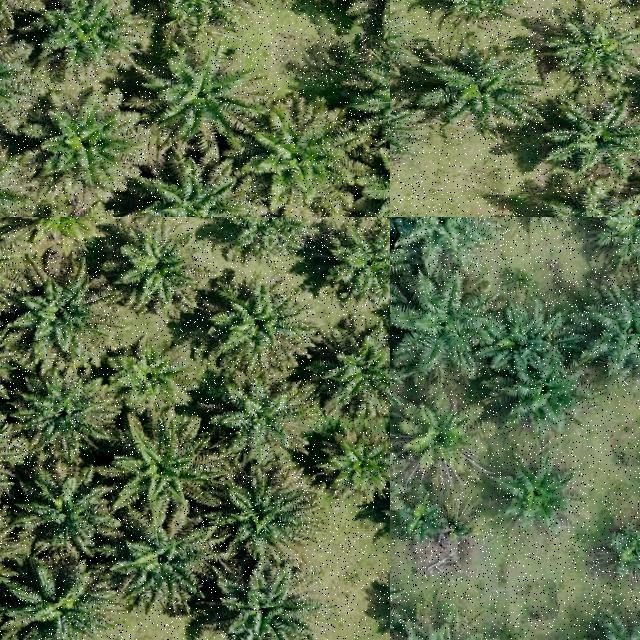Ganoderma: (407, 408, 474, 472), (39, 217, 85, 236)
